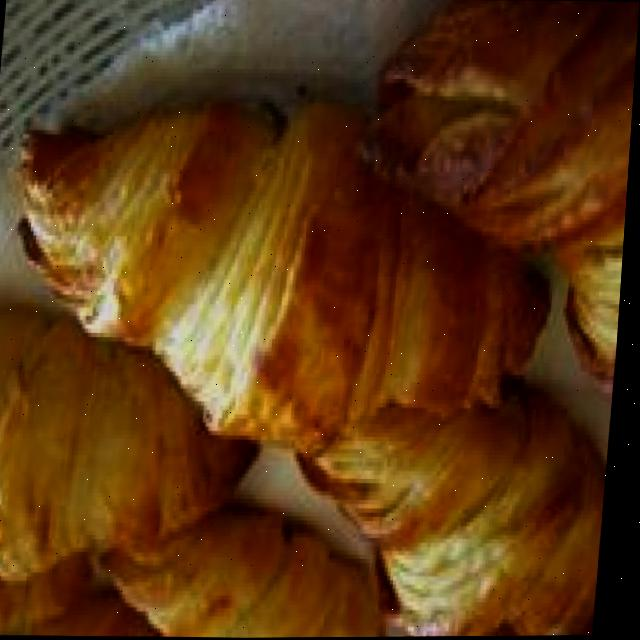面包点心: (0, 54, 587, 497)
